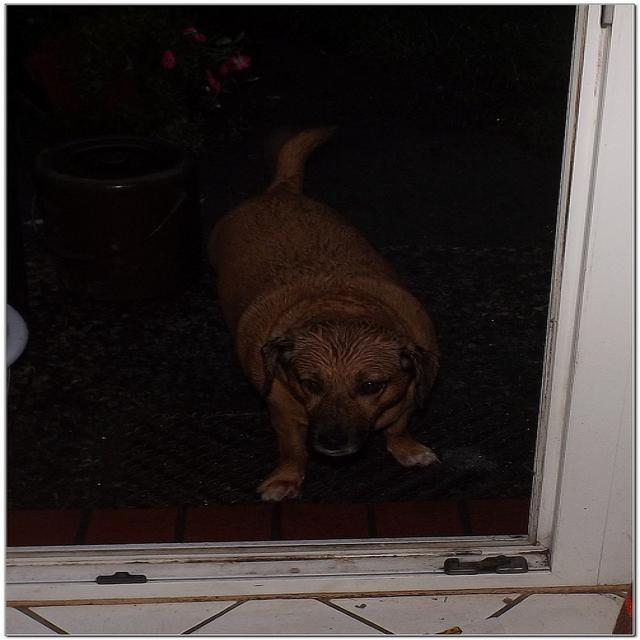Dog: (160, 166, 494, 500)
